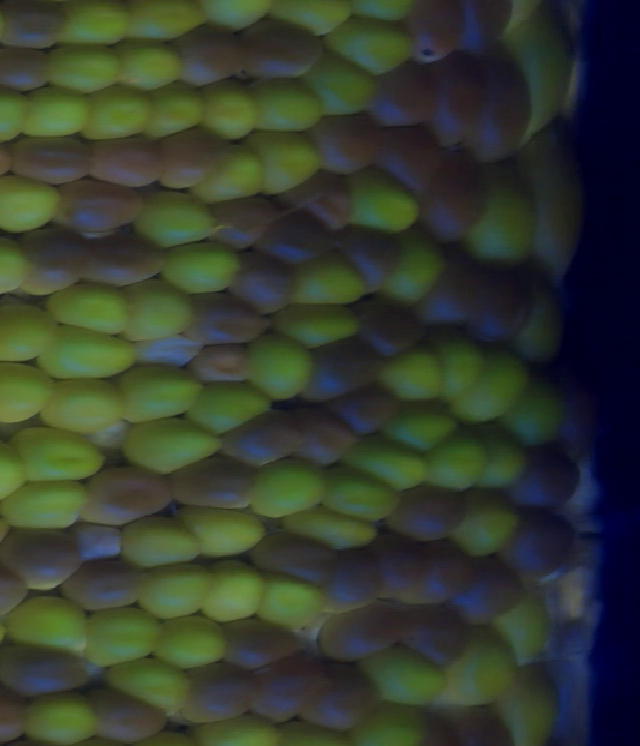fluorescent: (515, 131, 591, 278), (512, 1, 581, 156), (456, 159, 540, 270), (2, 421, 113, 493), (444, 341, 536, 427), (28, 319, 144, 384), (377, 218, 455, 313), (445, 632, 531, 717), (0, 589, 99, 662), (331, 160, 424, 236), (492, 658, 572, 746), (107, 360, 212, 426), (104, 274, 201, 345), (117, 415, 228, 475), (238, 125, 328, 199), (74, 601, 167, 672), (246, 452, 335, 526), (313, 459, 407, 529), (360, 641, 456, 708), (278, 245, 375, 311), (100, 654, 197, 719), (449, 480, 524, 564), (34, 373, 134, 436), (298, 43, 383, 117), (152, 236, 250, 299), (512, 261, 569, 368), (244, 569, 336, 635), (278, 499, 386, 555), (338, 431, 434, 494), (322, 13, 420, 74), (128, 185, 221, 248), (182, 376, 279, 436), (109, 509, 204, 570), (195, 553, 271, 629), (243, 329, 318, 406), (418, 424, 496, 498), (40, 274, 136, 334), (18, 684, 110, 746), (128, 556, 215, 621), (503, 365, 568, 452), (241, 72, 328, 137), (147, 610, 236, 673), (422, 323, 492, 403), (180, 502, 270, 564), (189, 138, 271, 205), (0, 476, 98, 531), (373, 399, 462, 458), (264, 299, 363, 351), (77, 82, 161, 143), (0, 289, 67, 365), (16, 81, 99, 142), (48, 1, 143, 54), (494, 590, 556, 671), (42, 38, 129, 95), (370, 342, 444, 408), (343, 692, 432, 746), (191, 73, 261, 141), (110, 33, 188, 94), (470, 426, 535, 498), (122, 1, 213, 52), (139, 79, 211, 143), (0, 169, 66, 238), (0, 355, 59, 430), (191, 706, 283, 746), (262, 1, 356, 38), (188, 1, 270, 36), (0, 433, 32, 512), (0, 231, 34, 304), (0, 80, 36, 144)
nonfluorescent: (466, 43, 537, 165), (416, 141, 494, 249), (227, 12, 332, 89), (442, 548, 535, 633), (496, 504, 584, 591), (307, 599, 416, 669), (72, 461, 185, 528), (244, 524, 350, 595), (294, 654, 387, 734), (237, 647, 327, 729), (385, 598, 480, 673), (297, 332, 386, 412), (378, 479, 478, 550), (175, 284, 273, 355), (171, 656, 265, 730), (4, 223, 93, 301), (211, 610, 314, 677), (0, 638, 101, 706), (215, 405, 313, 475), (367, 118, 450, 199), (397, 532, 480, 613), (413, 246, 488, 335), (421, 50, 487, 151), (50, 173, 149, 240), (163, 16, 248, 94), (321, 212, 407, 289), (506, 435, 586, 517), (361, 59, 444, 138), (70, 229, 173, 292), (545, 356, 605, 464), (51, 556, 157, 617), (164, 451, 261, 517), (80, 680, 177, 746), (353, 523, 428, 605), (465, 260, 533, 350), (310, 541, 395, 613), (150, 123, 236, 194), (5, 126, 99, 190), (349, 291, 430, 365), (0, 523, 85, 593), (80, 130, 172, 193), (224, 244, 302, 317), (308, 105, 382, 178), (283, 403, 360, 472), (398, 1, 472, 72), (202, 189, 284, 252), (285, 166, 358, 236), (322, 382, 402, 440), (181, 335, 259, 391), (0, 1, 77, 55), (450, 1, 522, 58), (437, 700, 520, 746), (65, 518, 128, 568), (0, 42, 55, 97), (0, 553, 35, 623), (0, 677, 32, 746)
